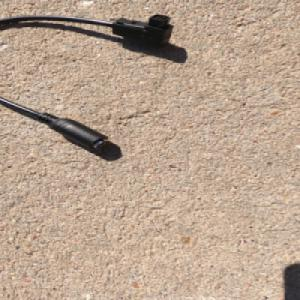Wire: (0, 14, 184, 151)
